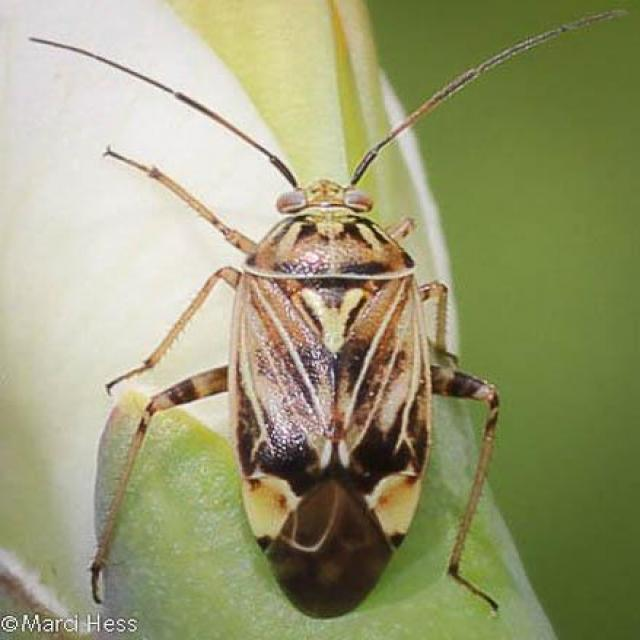Miridae-Adult-: (19, 24, 521, 622)
